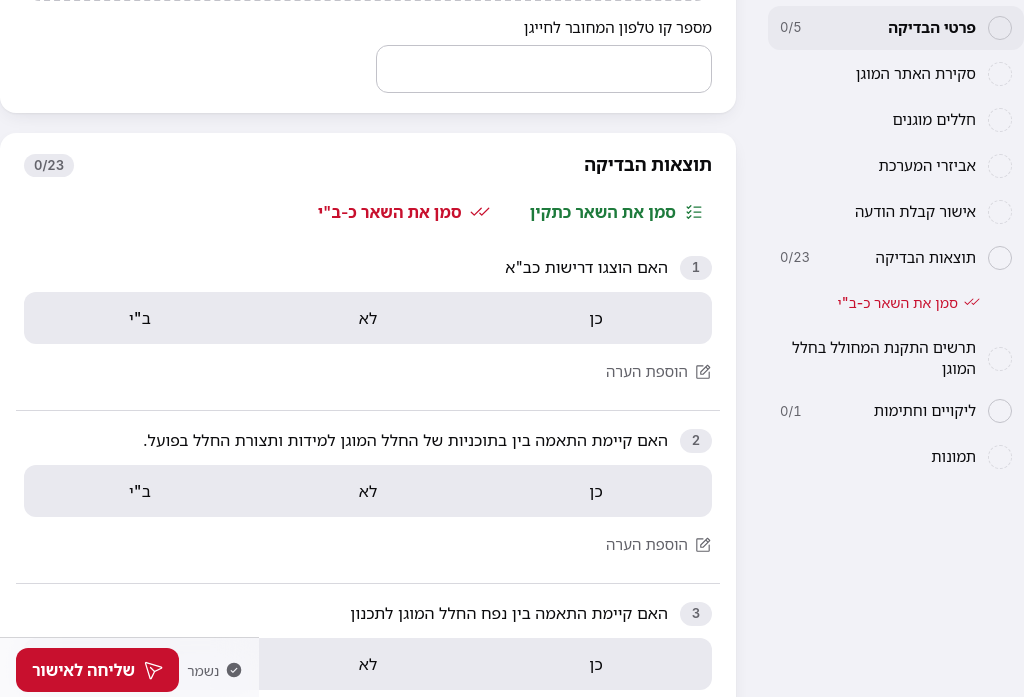
Test case: FormFiller › answering a check updates progress and the local copy
The image size is (1036, 697).
(page scrolled)
Expected: the 1st text "0/23" is shown, top-left (24, 154), bottom-right (74, 177)
Step 1. Click the radio button labelled "כן" below "האם הוצגו דרישות כב\"א" → coordinates (596, 318), box top-left (484, 296), bottom-right (708, 340)
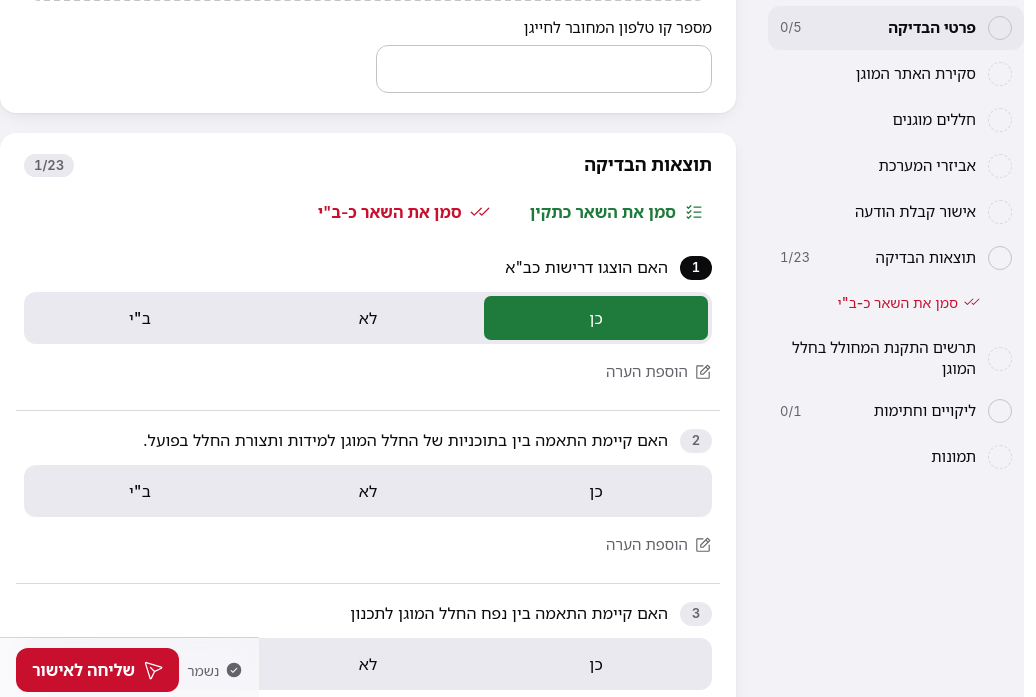
Now the 1st text "1/23" is shown, box top-left (24, 154), bottom-right (74, 177)
